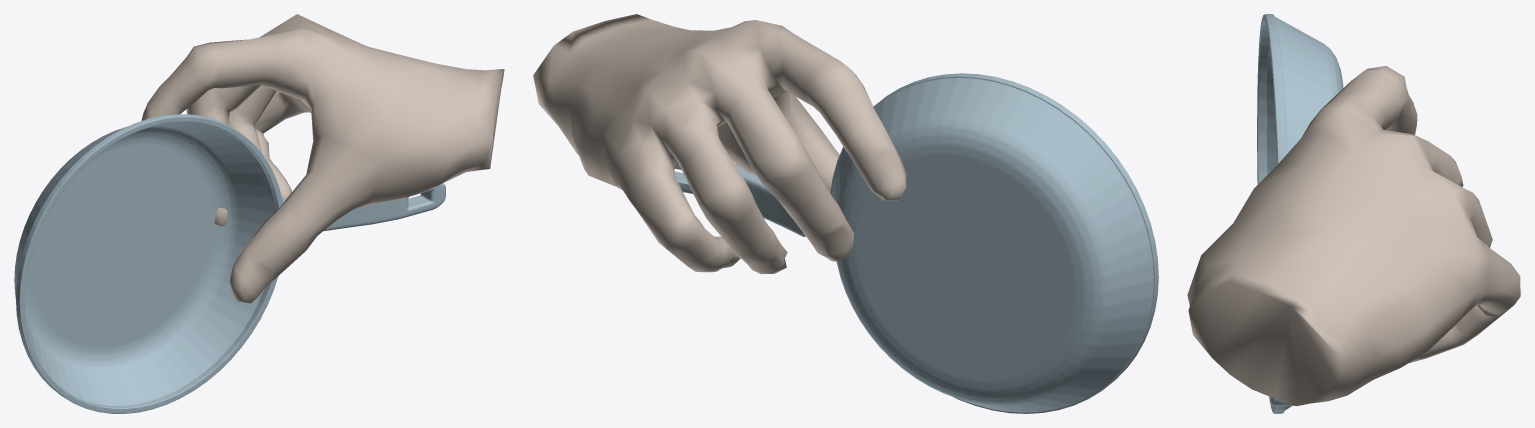
File: ours_2.glb
3 renders of one model, left to right at view 1: azimuth 30°, elevation 25°; view 2: azimuth 150°, elevation 25°; view 3: azimuth 270°, elevation 25°, orthographic. The views are drawn at different scales.
Bounding box in the file's own units: 0.2801 × 0.164 × 0.125.
